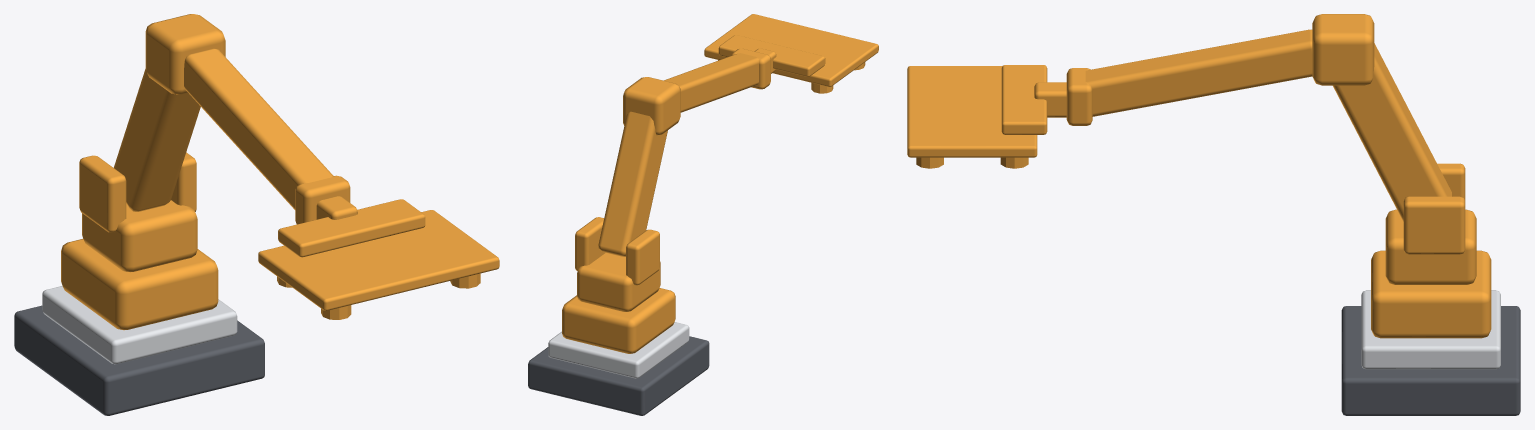
The model's file is glass-fitting-robot.glb.
3 renders of one model, left to right at view 1: azimuth 30°, elevation 25°; view 2: azimuth 150°, elevation 25°; view 3: azimuth 270°, elevation 25°, orthographic. The views are drawn at different scales.
Parts seen in each view (by area): view 1: arm-swing, glass-fitting-robot, base-spin, suction-frame; view 2: arm-swing, base-spin, glass-fitting-robot, suction-frame; view 3: arm-swing, glass-fitting-robot, base-spin, suction-frame.
Boxes of the visible parts, <box> form: arm-swing: <box>113,14,425,257</box>; glass-fitting-robot: <box>14,286,264,415</box>; base-spin: <box>61,152,218,330</box>; suction-frame: <box>258,210,499,319</box>; arm-swing: <box>598,35,825,256</box>; base-spin: <box>562,217,675,353</box>; glass-fitting-robot: <box>528,322,709,415</box>; suction-frame: <box>704,14,878,93</box>; arm-swing: <box>1001,14,1451,221</box>; glass-fitting-robot: <box>1341,290,1520,415</box>; base-spin: <box>1371,163,1491,338</box>; suction-frame: <box>907,66,1037,168</box>.
Bounding box in the file's own units: 1.2 × 2.42 × 3.77.
